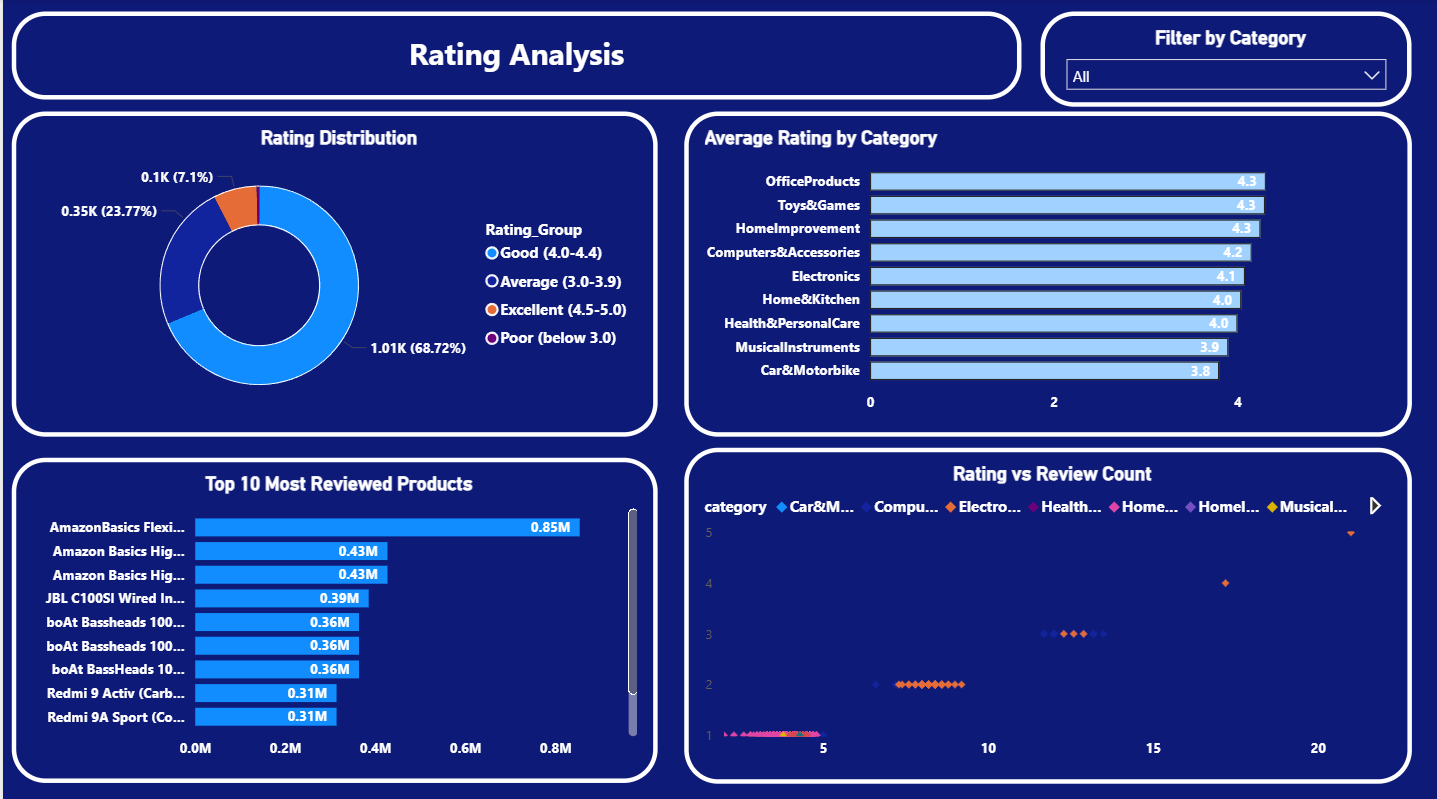

Layout of this report page (visuals, bound fields, positions):
{"tool":"powerbi","page":{"name":"Rating Analysis ⭐","canvas":[1280,720],"ordinal":3},"visuals":[{"type":"textbox","box":[8.2,11,898.8,78.2],"z":0},{"type":"donutChart","title":"Rating  Distribution","fields":{"Y":["CountNonNull(amazon_db amazon_products.product_id)"],"Category":["amazon_db amazon_products.Rating_Group"]},"box":[8.2,100.2,575,289.5],"z":1000},{"type":"clusteredBarChart","title":"Average Rating by Category","fields":{"Category":["amazon_db amazon_products.category"],"Y":["Avg(amazon_db amazon_products.rating)"]},"box":[606.5,100.2,647.7,289.5],"z":2000},{"type":"clusteredBarChart","title":"Top  10 Most Reviewed Products","fields":{"Category":["amazon_db amazon_products.product_name"],"Y":["Sum(amazon_db amazon_products.rating_count)"]},"box":[8.2,408.9,575,289.5],"z":3000},{"type":"scatterChart","title":"Rating vs Review Count","fields":{"Category":["amazon_db amazon_products.product_name"],"X":["Sum(amazon_db amazon_products.rating)"],"Y":["CountNonNull(amazon_db amazon_products.rating_count)"],"Series":["amazon_db amazon_products.category"]},"box":[606.5,399.3,647.7,299.1],"z":4000},{"type":"slicer","title":"Filter by Category","fields":{"Values":["amazon_db amazon_products.category"]},"box":[923.5,11,330.7,85.1],"z":5000}]}

Visuals, with their boxes in screenshot pixels (x1, y1, x2, y2), scaled from the page's 1280x720 canvas onto the 1437x799 screenshot:
textbox: rect(9, 12, 1018, 99)
"Rating  Distribution" donutChart: rect(9, 111, 655, 432)
"Average Rating by Category" clusteredBarChart: rect(681, 111, 1408, 432)
"Top  10 Most Reviewed Products" clusteredBarChart: rect(9, 454, 655, 775)
"Rating vs Review Count" scatterChart: rect(681, 443, 1408, 775)
"Filter by Category" slicer: rect(1037, 12, 1408, 107)
